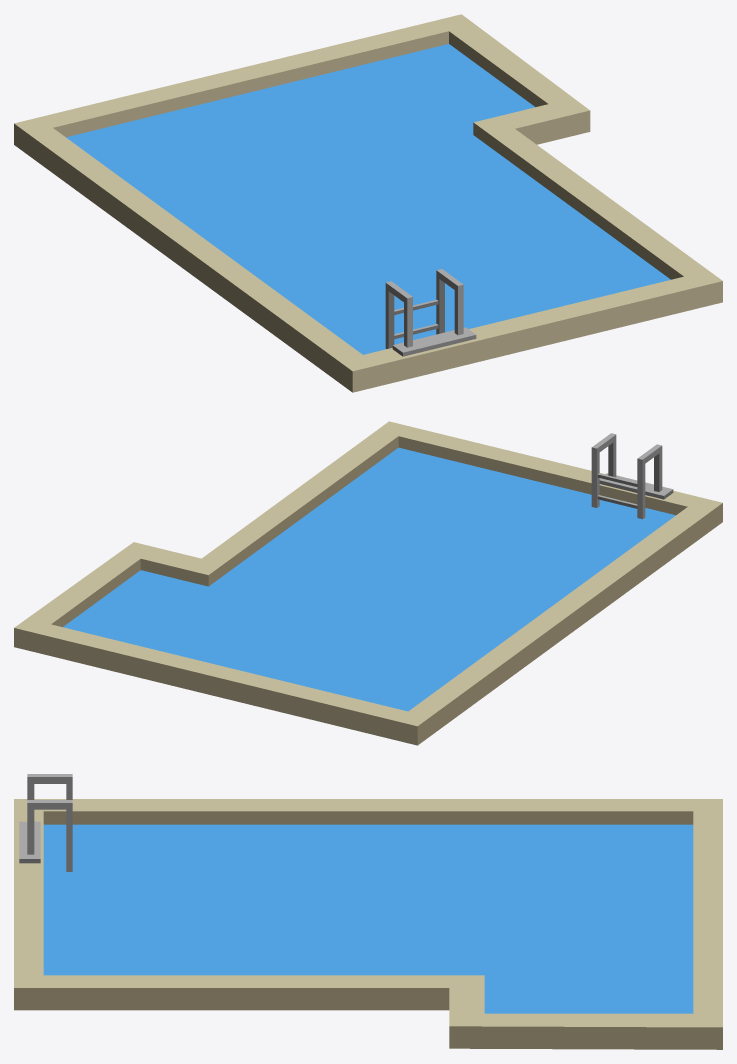
File: SM_Pool_Large_01.fbx
3 renders of one model, top to bottom at view 1: azimuth 30°, elevation 25°; view 2: azimuth 150°, elevation 25°; view 3: azimuth 270°, elevation 25°, orthographic. The views are drawn at different scales.
Parts seen in each view (by area): view 1: SM_Pool_Large_01; view 2: SM_Pool_Large_01; view 3: SM_Pool_Large_01.
Boxes of the visible parts, x1,y1,x2,y2 form: SM_Pool_Large_01: (14,14,722,392); SM_Pool_Large_01: (14,421,722,745); SM_Pool_Large_01: (14,774,722,1049).
Bounding box in the file's own units: 6.11 × 1.01 × 8.01.
